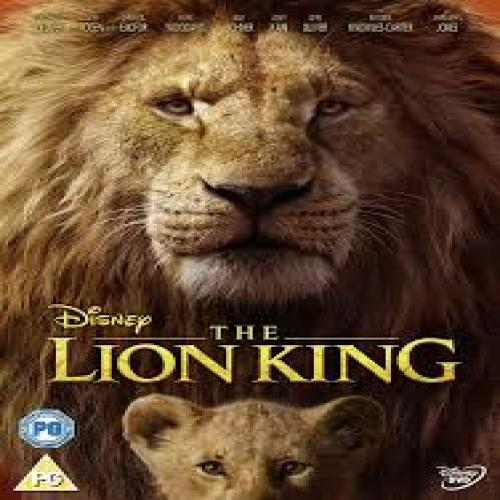lion-endangered: (2, 0, 494, 500), (114, 388, 396, 500)
